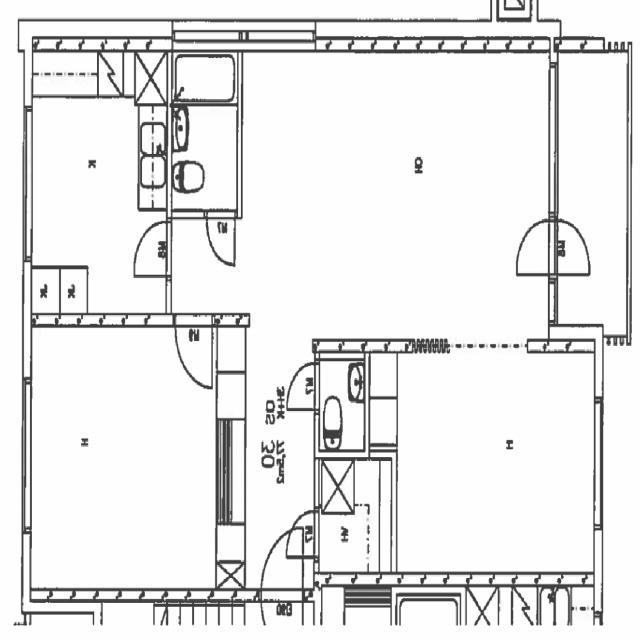door: (262, 518, 302, 600), (548, 214, 595, 274), (513, 214, 559, 274), (176, 312, 212, 383), (262, 585, 302, 640), (134, 224, 172, 278), (282, 361, 318, 412), (285, 511, 319, 557), (207, 209, 234, 264)
